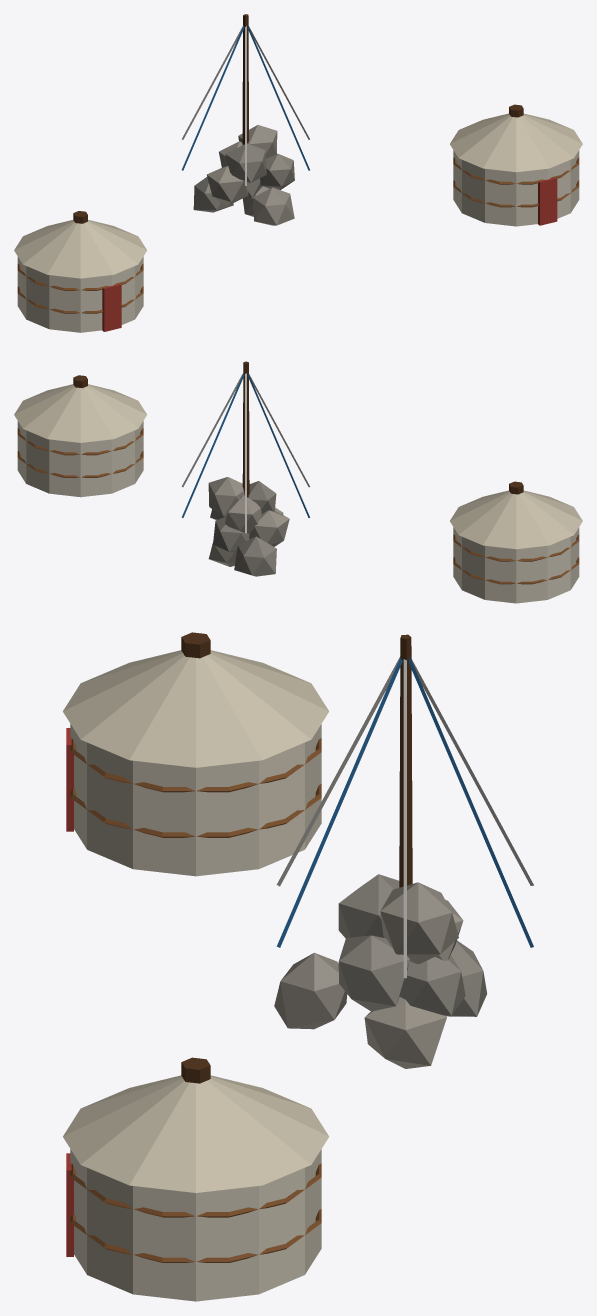
File: orc_court.glb
3 views of the same model, one above another, from view 1: azimuth 30°, elevation 25°; view 2: azimuth 150°, elevation 25°; view 3: azimuth 270°, elevation 25° (orthographic). The views are drawn at different scales.
Parts seen in each view (by area): view 1: orc_court; view 2: orc_court; view 3: orc_court.
Part boxes in pixels (bbox=[...]): orc_court: bbox=[14, 14, 582, 332]; orc_court: bbox=[14, 361, 582, 603]; orc_court: bbox=[63, 632, 533, 1301].
Size of the model in its own units: 6.07 by 2.19 by 2.25.
